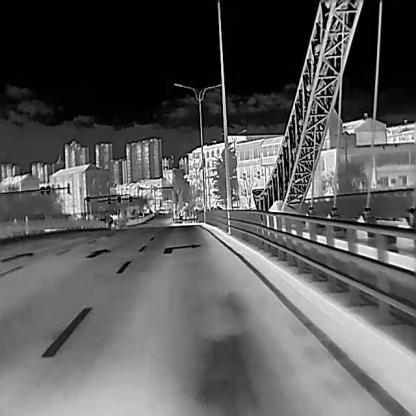car: (106, 219, 116, 226), (136, 211, 144, 216)
